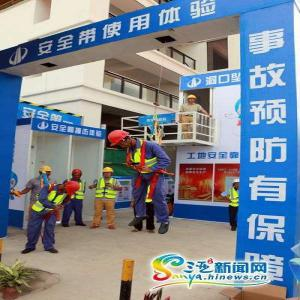red: (105, 130, 134, 152), (61, 181, 82, 199), (70, 169, 84, 182)
white: (232, 179, 242, 191)
yellow: (100, 167, 116, 179), (37, 166, 53, 178), (186, 95, 199, 106)
